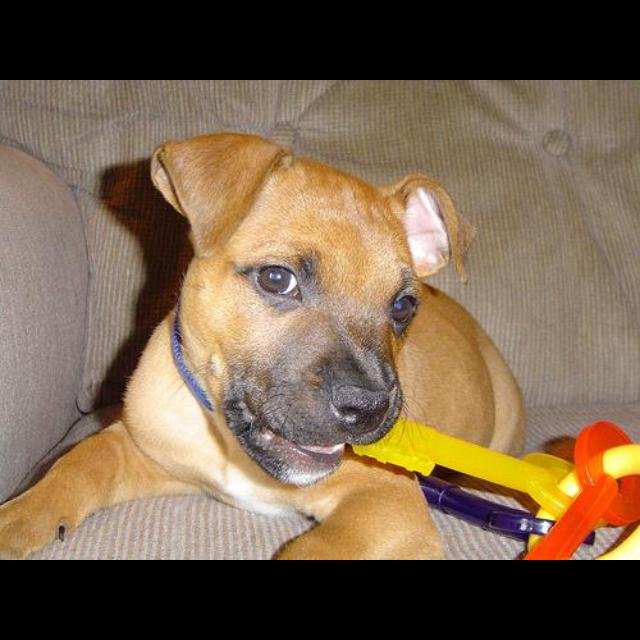amstaff: (1, 131, 529, 559)
